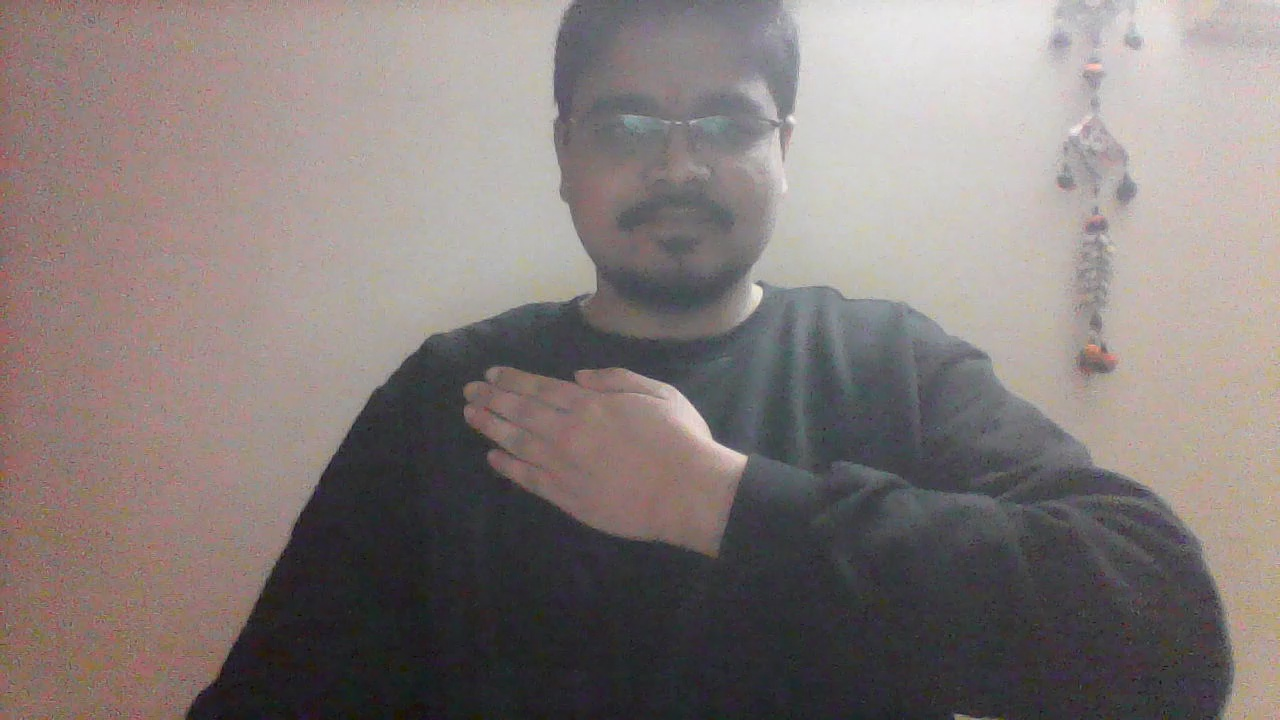Please: (453, 358, 718, 576)
